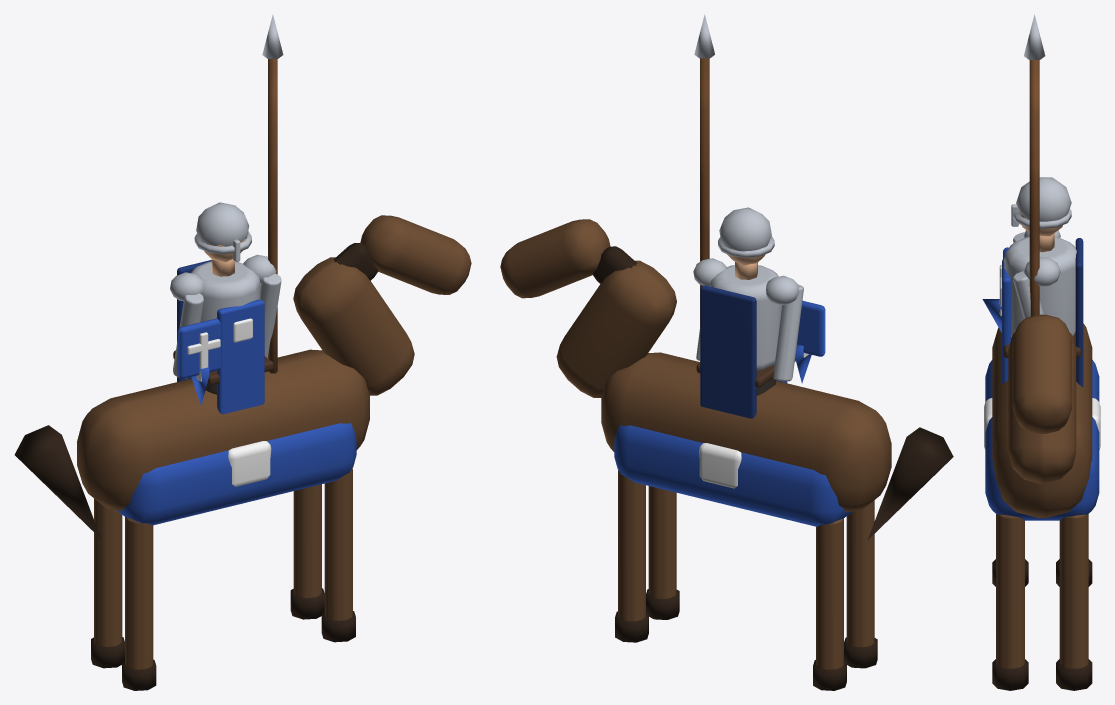
Rendered from knight_blue.glb.
3 renders of one model, left to right at view 1: azimuth 30°, elevation 25°; view 2: azimuth 150°, elevation 25°; view 3: azimuth 270°, elevation 25°, orthographic. The views are drawn at different scales.
Visible parts, largest first — view 1: horse_body; view 2: horse_body; view 3: horse_body.
Part boxes in pixels (box(x1,y1,x2,y2)): horse_body: box(14, 14, 471, 690); horse_body: box(500, 14, 953, 690); horse_body: box(982, 14, 1100, 690).
Size of the model in its own units: 0.5797 by 0.7785 by 0.1299.
2 materials, 1 textured.
